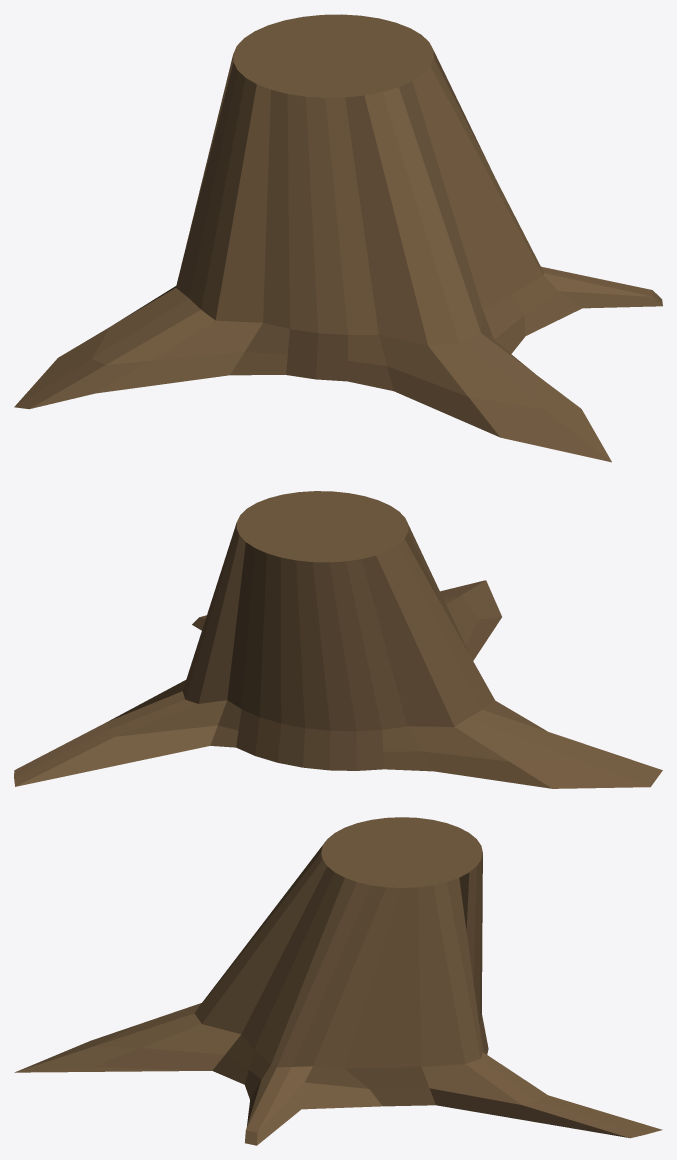
File: Tree_06.fbx
3 renders of one model, top to bottom at view 1: azimuth 30°, elevation 25°; view 2: azimuth 150°, elevation 25°; view 3: azimuth 270°, elevation 25°, orthographic. The views are drawn at different scales.
Visible parts, largest first — view 1: Tree_06; view 2: Tree_06; view 3: Tree_06.
Boxes of the visible parts, x1=… form: Tree_06: x1=14, y1=14, x2=662, y2=462; Tree_06: x1=14, y1=491, x2=662, y2=788; Tree_06: x1=14, y1=817, x2=662, y2=1145.
Bounding box in the file's own units: 290 × 115 × 333.
